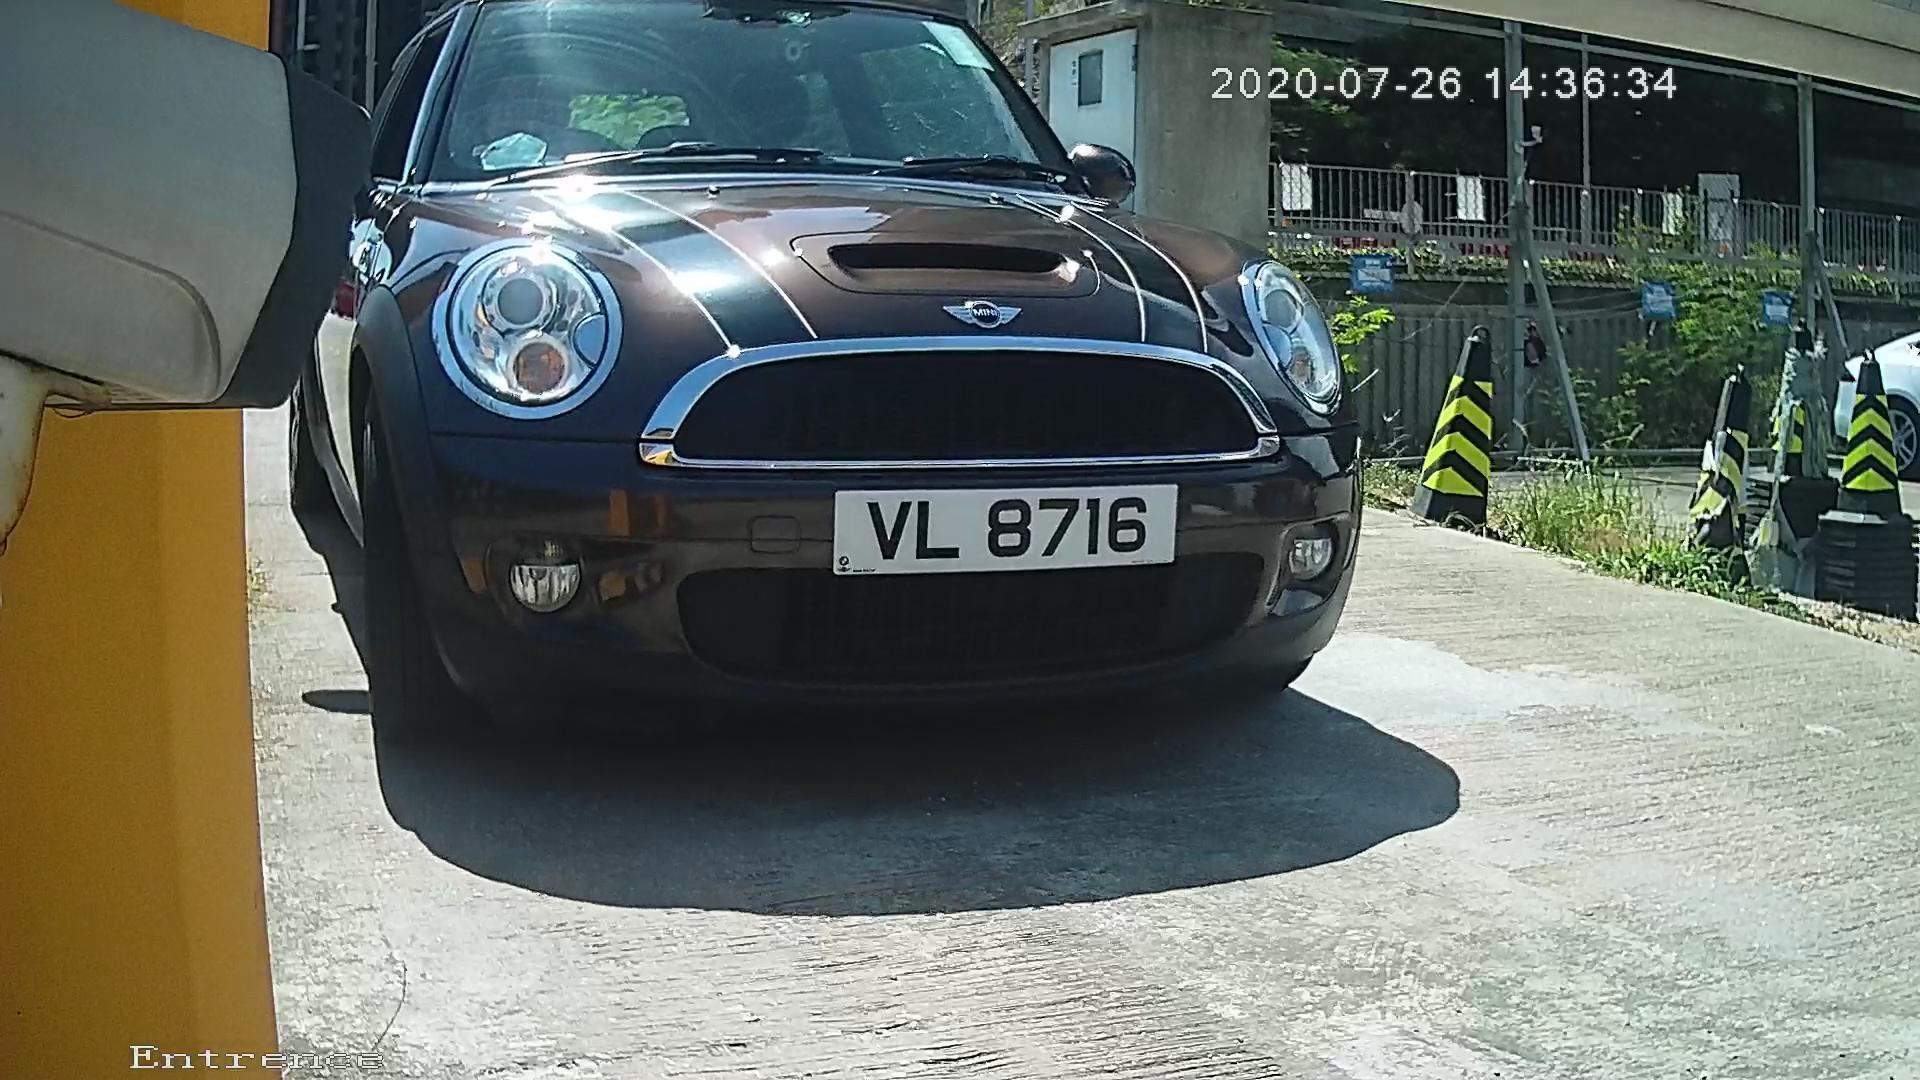privatecar: (241, 20, 1458, 815)
